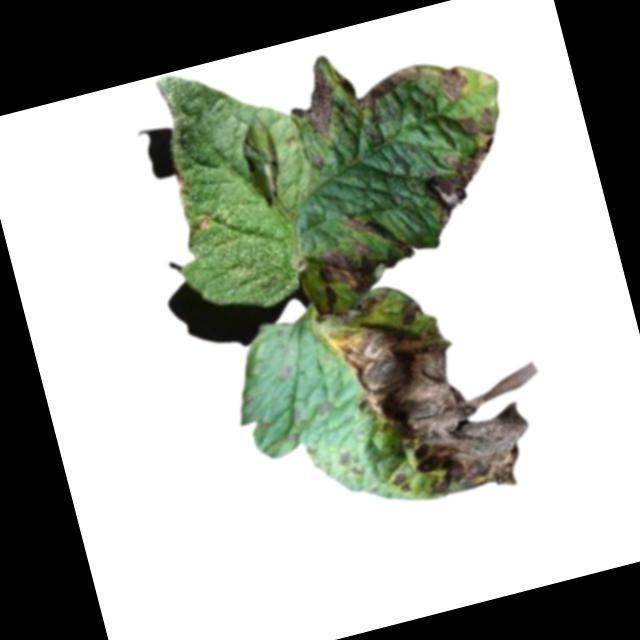Early_blight: (326, 260, 566, 518), (403, 102, 520, 232), (302, 200, 419, 306), (332, 50, 429, 120), (281, 59, 344, 145), (435, 61, 474, 107), (191, 212, 216, 233), (172, 171, 187, 194), (309, 153, 326, 171)
